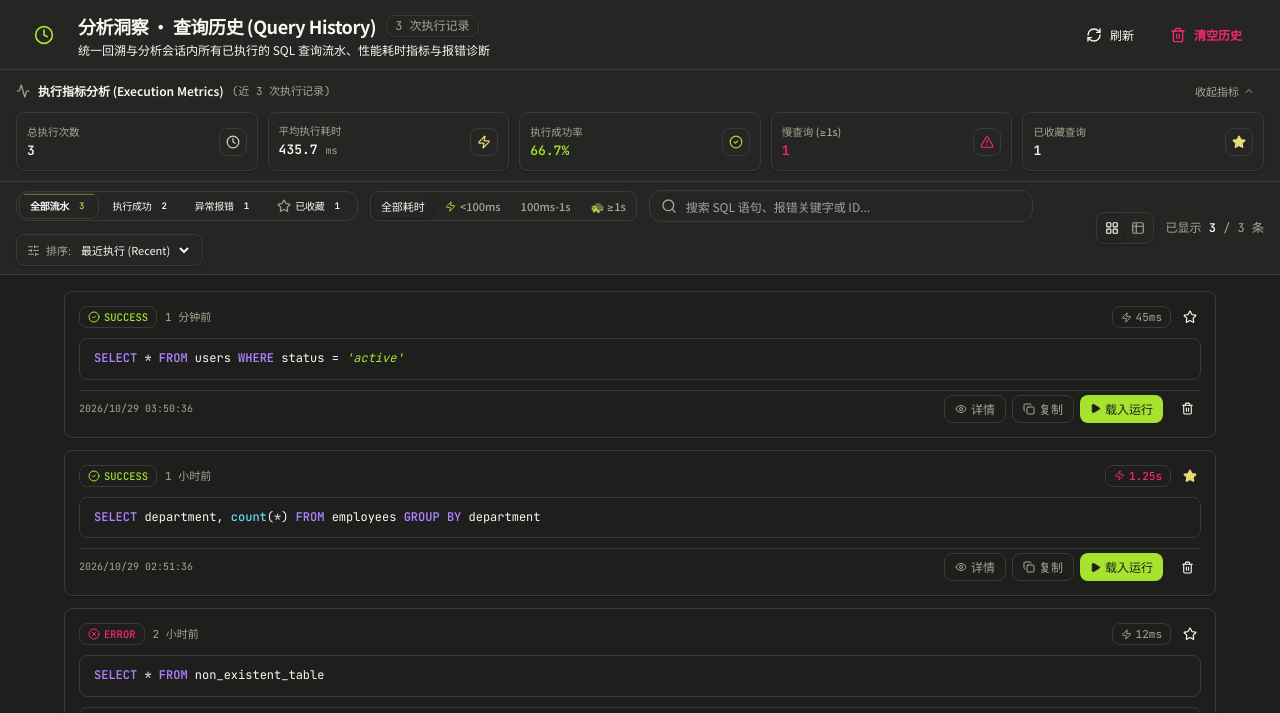
HistoryTab workbench › filters history items by latency pills (<100ms, >=1s)
Click the button titled "耗时小于 100ms 的极速查询": (473, 206) [437,194,509,218]
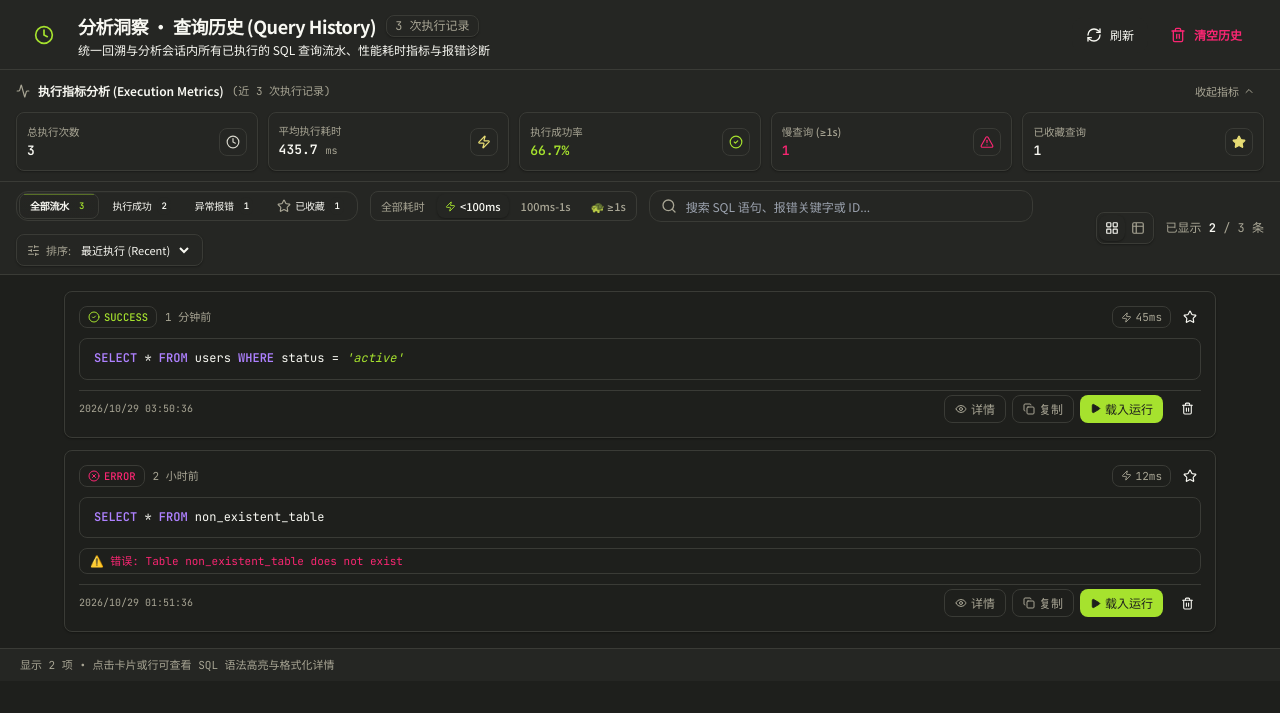
Check: the text "SELECT * FROM users WHERE status = 'active'" is shown, box [79,338,1201,380]
Check: the text "employees" is gone
Click the button titled "耗时大于 1s 的慢查询": (608, 206) [583,194,634,218]
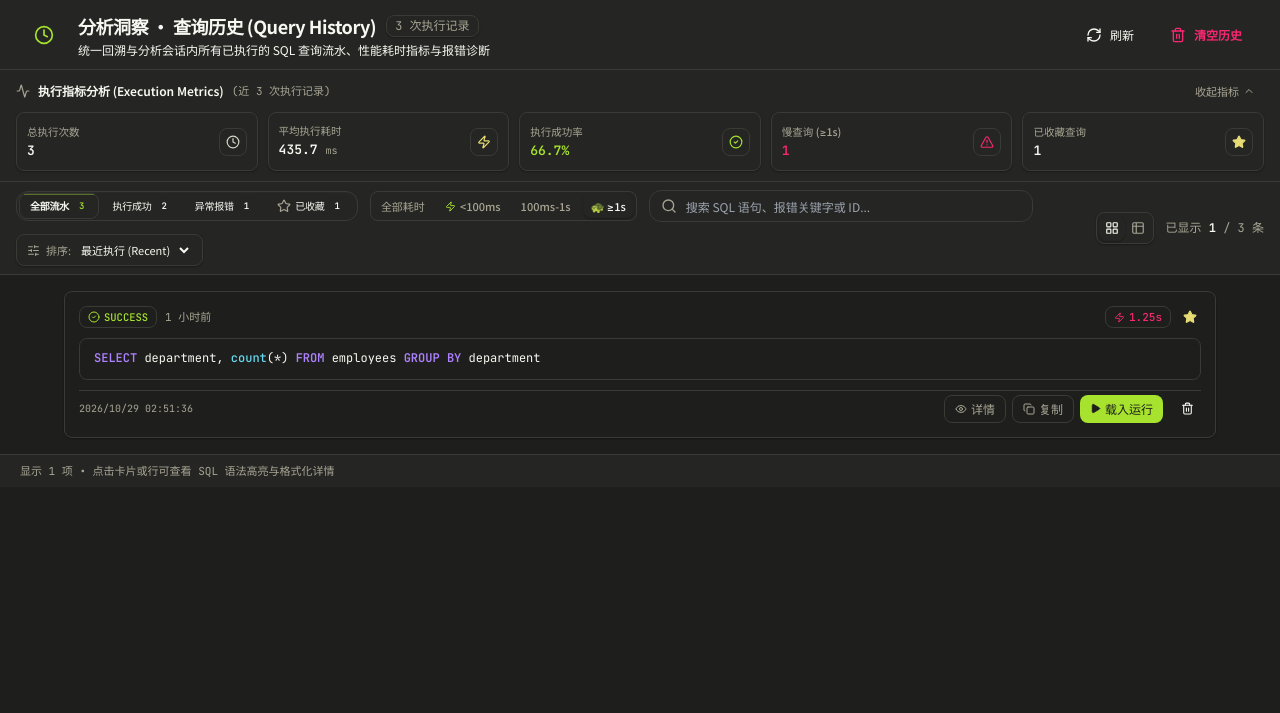
Check: the text "employees" is shown, box [324,350,404,366]
Check: the text "users" is gone
